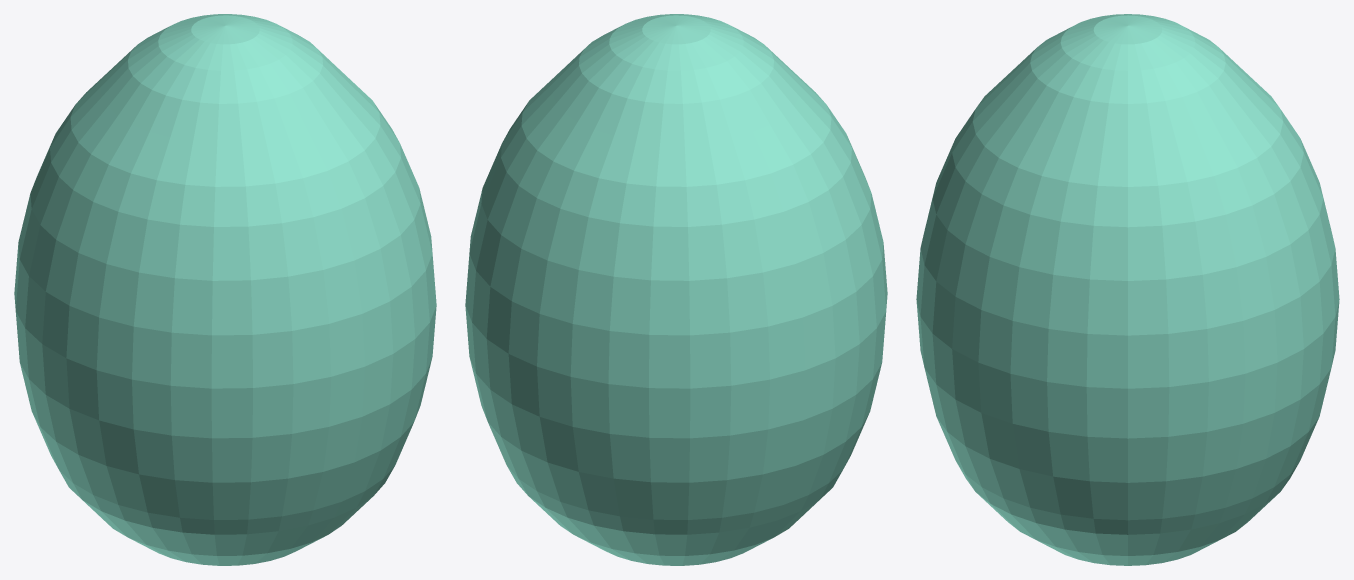
The model's file is bebek.fbx.
The picture shows the model from 3 angles, left to right: view 1: azimuth 30°, elevation 25°; view 2: azimuth 150°, elevation 25°; view 3: azimuth 270°, elevation 25°; orthographic projection.
Visible parts, largest first — view 1: Sphere; view 2: Sphere; view 3: Sphere.
Boxes of the visible parts, box(x1,y1,x2,y2) form: Sphere: box(14, 14, 436, 565); Sphere: box(465, 14, 887, 565); Sphere: box(916, 14, 1339, 565).
Bounding box in the file's own units: 200 × 274 × 200.
